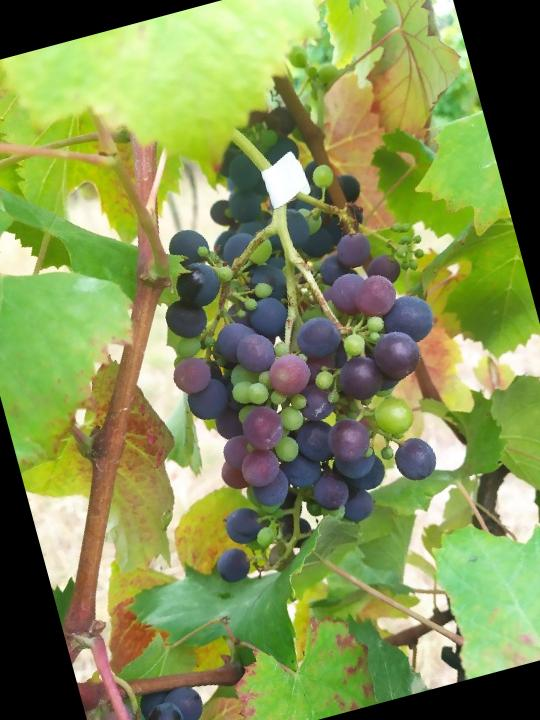grape: (121, 146, 496, 590)
